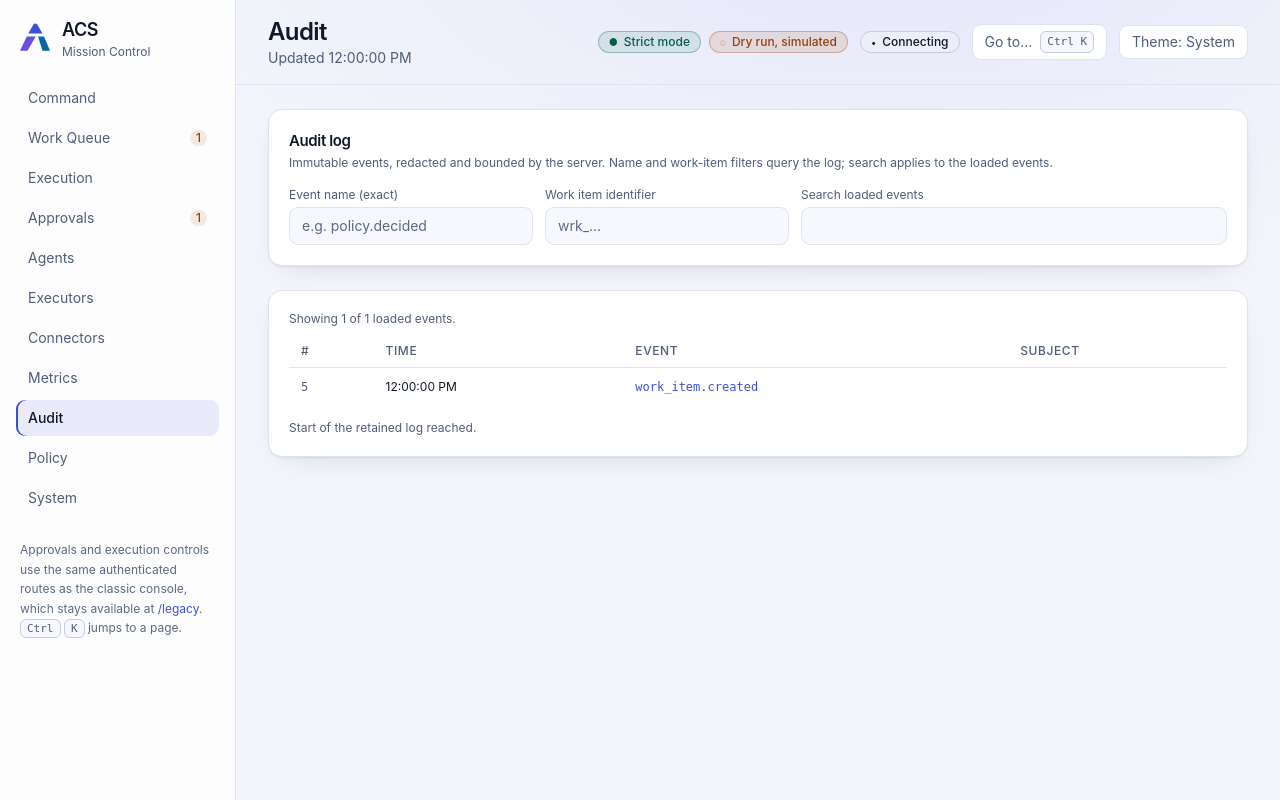
Test: Audit page › searches only the loaded events and says so when none match
Expected: the table named "Audit events, newest first" is shown, [289, 334, 1227, 404]
Type "zzz" into the search field labelled "Search loaded events" at (1014, 226), box [801, 206, 1227, 244]
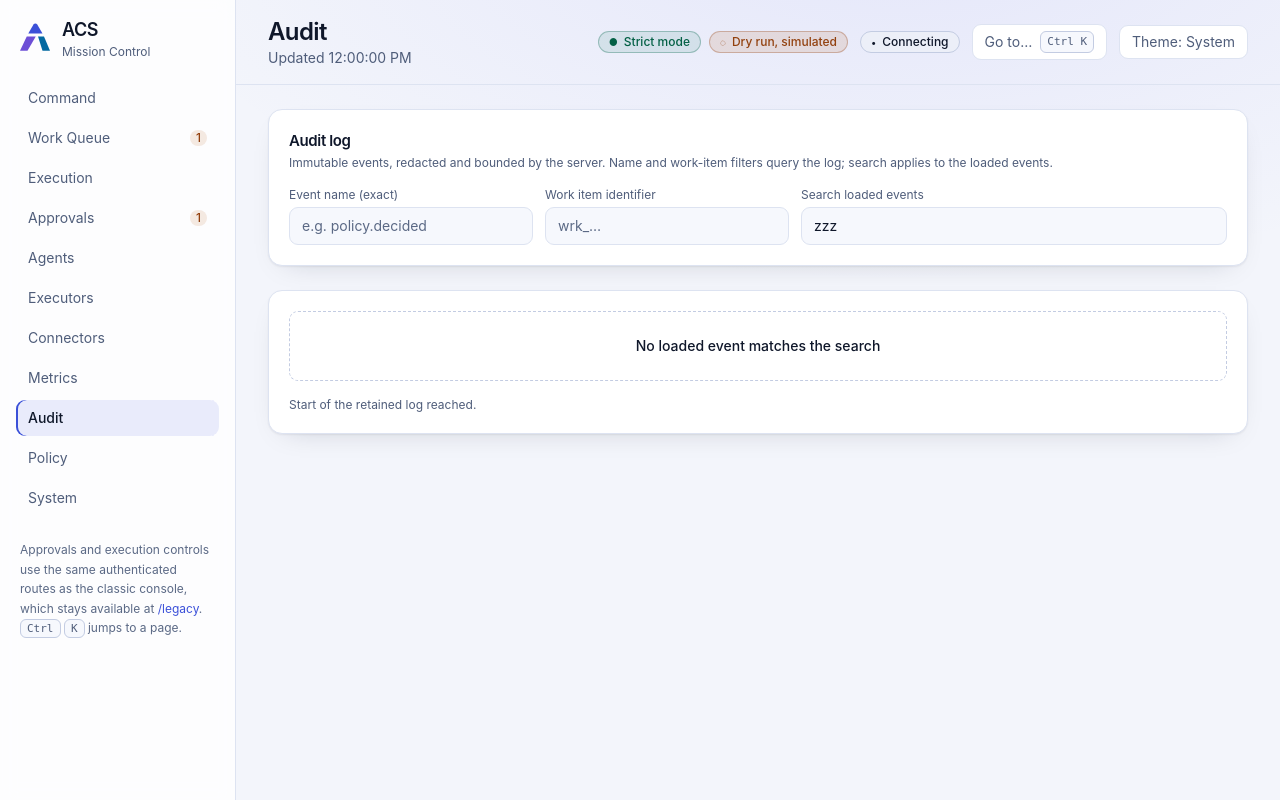
Expected: the text "No loaded event matches the search" is shown, [636, 336, 880, 354]
